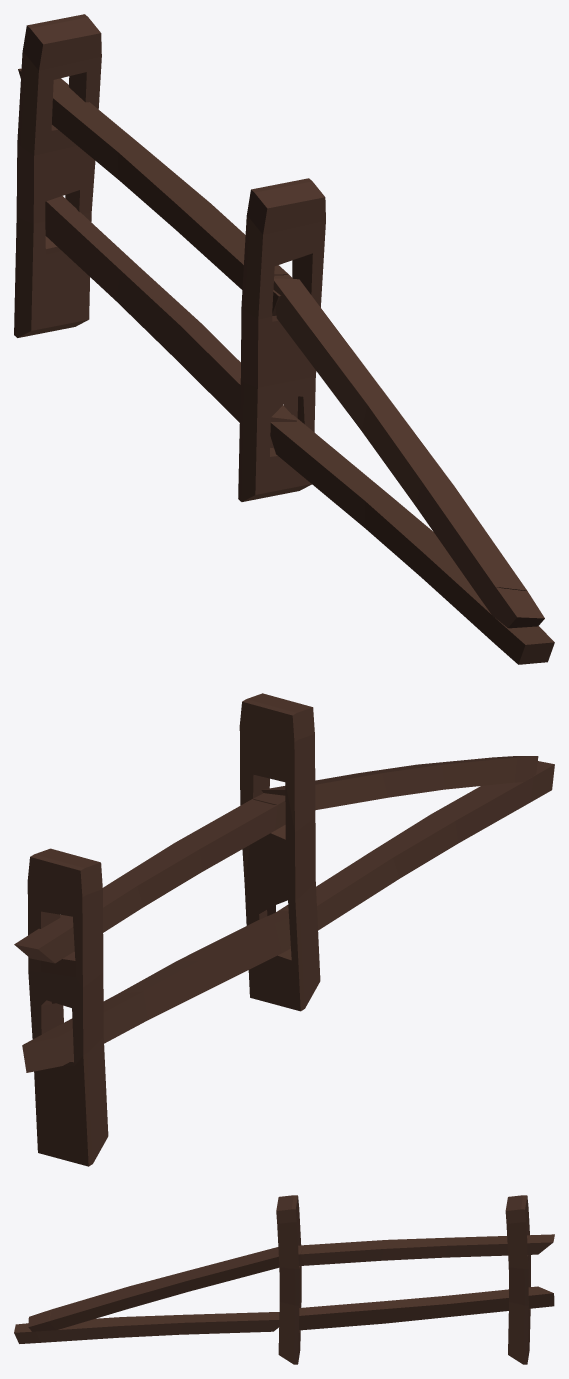
The model's file is Fence.fbx.
The picture shows the model from 3 angles, top to bottom: view 1: azimuth 30°, elevation 25°; view 2: azimuth 150°, elevation 25°; view 3: azimuth 270°, elevation 25°; orthographic projection. The views are drawn at different scales.
Parts seen in each view (by area): view 1: TurntableandFence:Mesh; view 2: TurntableandFence:Mesh; view 3: TurntableandFence:Mesh.
Part boxes in pixels (x1,y1,x2,y2): TurntableandFence:Mesh: (14,14,554,664); TurntableandFence:Mesh: (14,693,554,1166); TurntableandFence:Mesh: (14,1195,554,1364).
Bounding box in the file's own units: 1.06 × 4.48 × 13.87.
